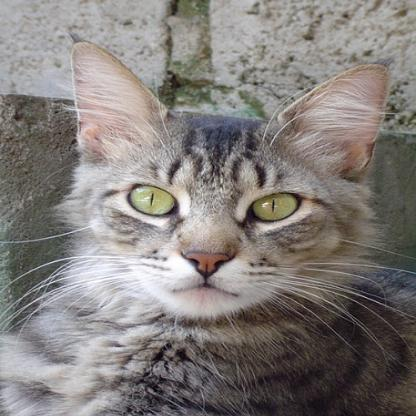cat: (22, 33, 397, 415)
